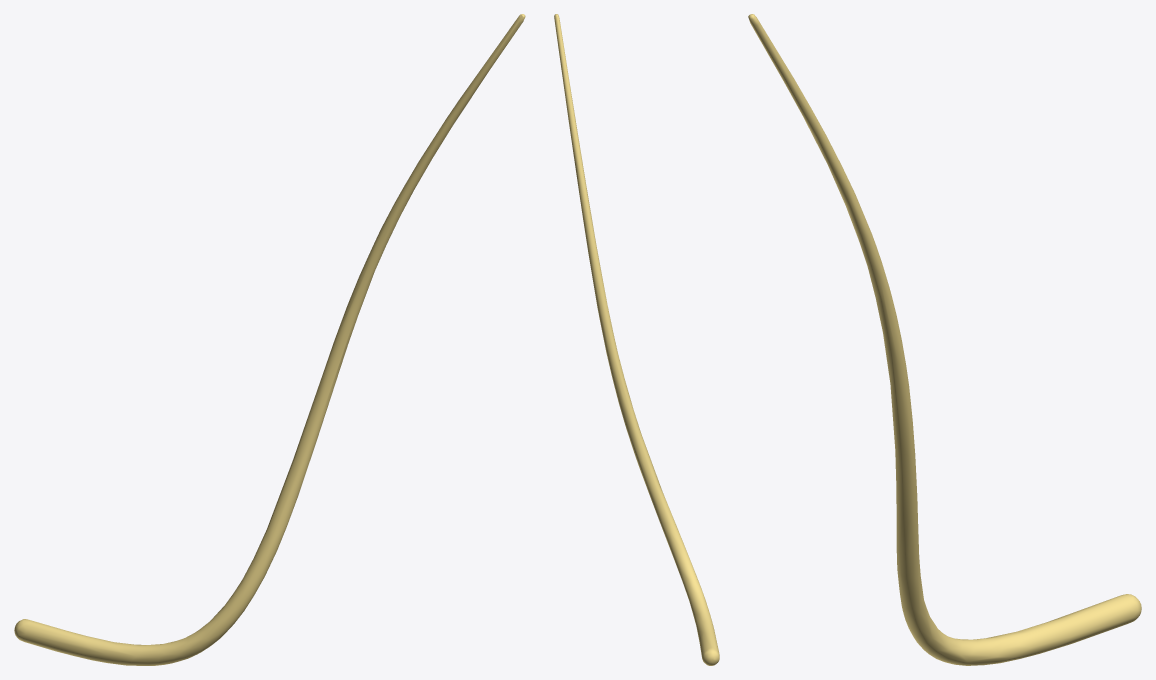
File: fma52990_fj3904.glb
3 renders of one model, left to right at view 1: azimuth 30°, elevation 25°; view 2: azimuth 150°, elevation 25°; view 3: azimuth 270°, elevation 25°, orthographic. The views are drawn at different scales.
Visible parts, largest first — view 1: FMA52990_FJ3904; view 2: FMA52990_FJ3904; view 3: FMA52990_FJ3904.
Part boxes in pixels (box(x1,y1,x2,y2)): FMA52990_FJ3904: box(14, 14, 525, 665); FMA52990_FJ3904: box(554, 14, 719, 665); FMA52990_FJ3904: box(748, 14, 1141, 665).
Size of the model in its own units: 0.0176 by 0.0305 by 0.0131.
